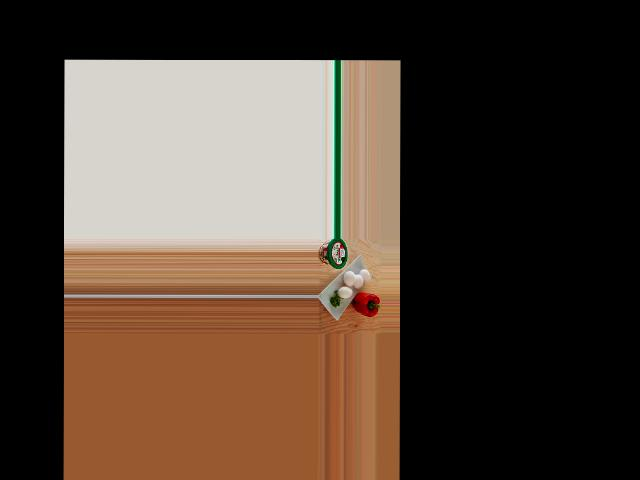bell_pepper: (353, 288, 379, 319)
